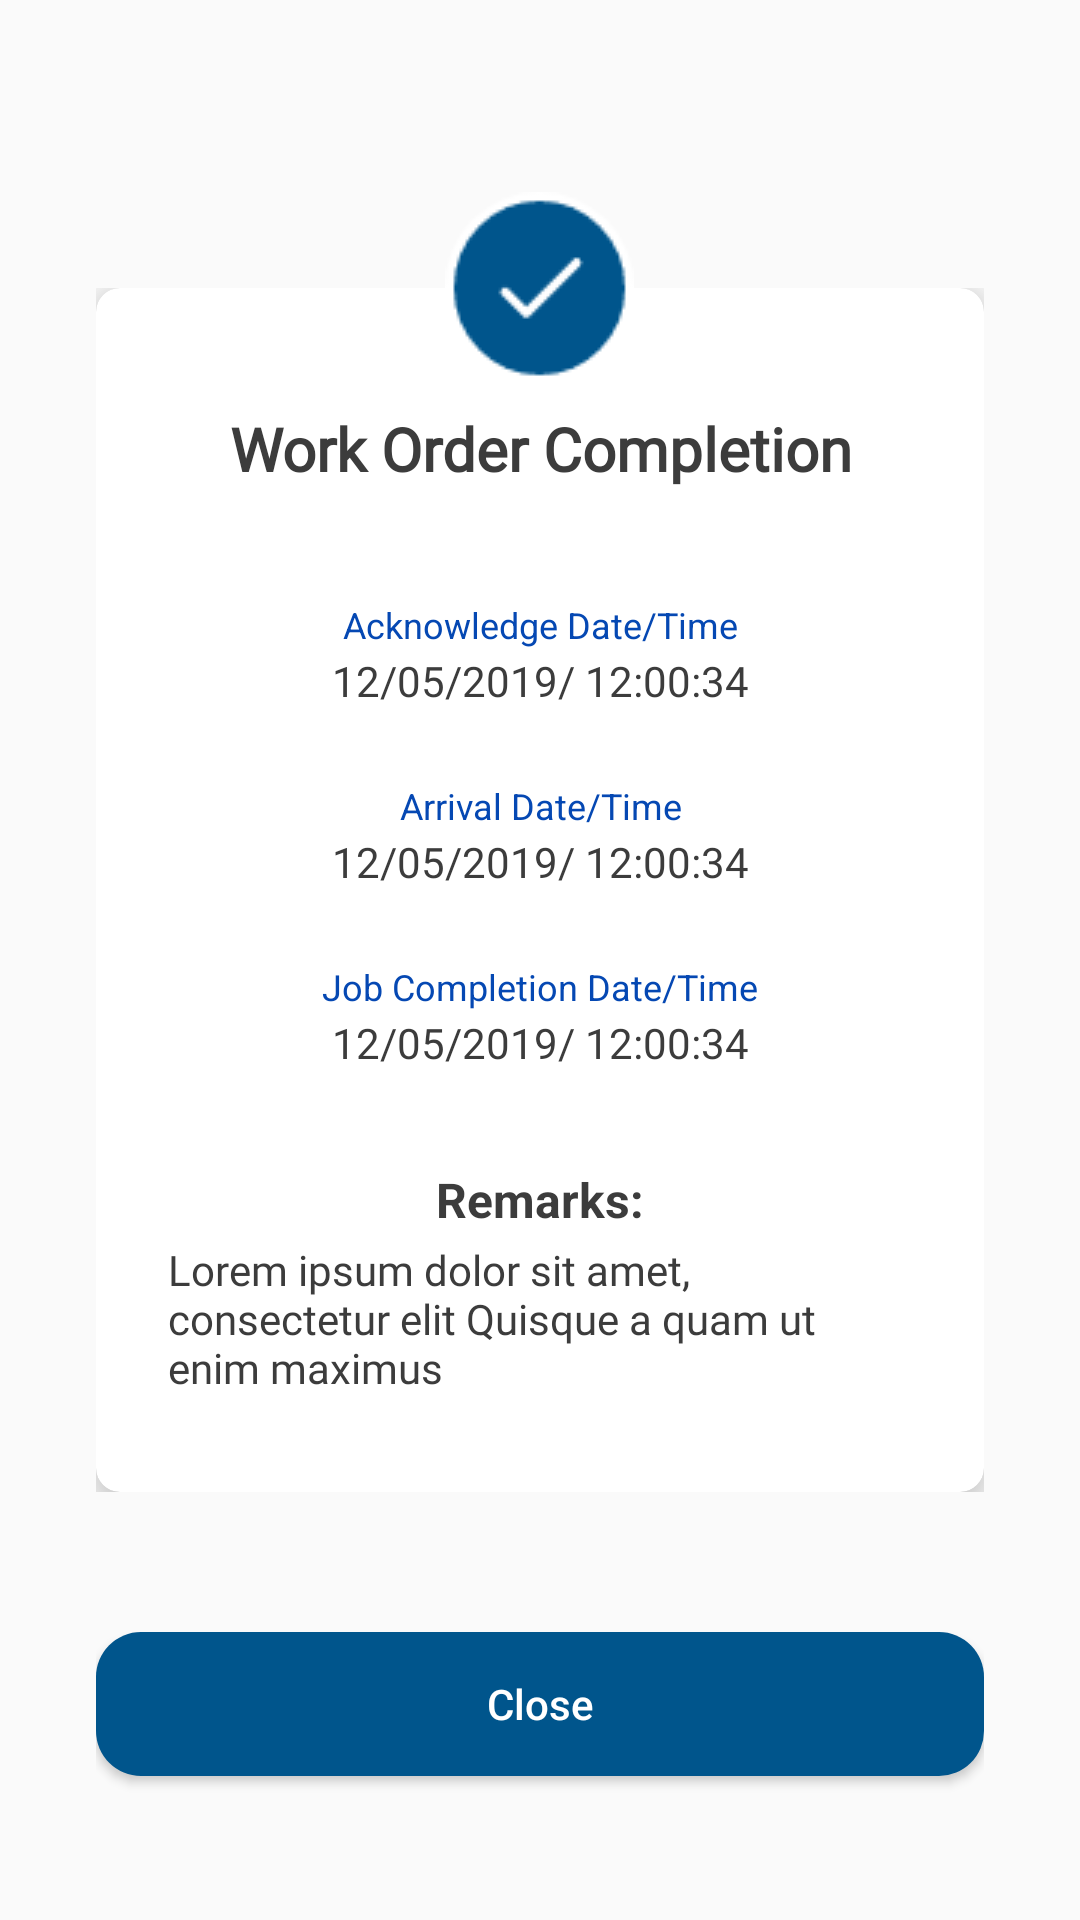

Named icons in this screenshot (1080 × 1920) and their bounding boxes, (x1, y1, x2, y2):
complete: (453, 200, 626, 376)
